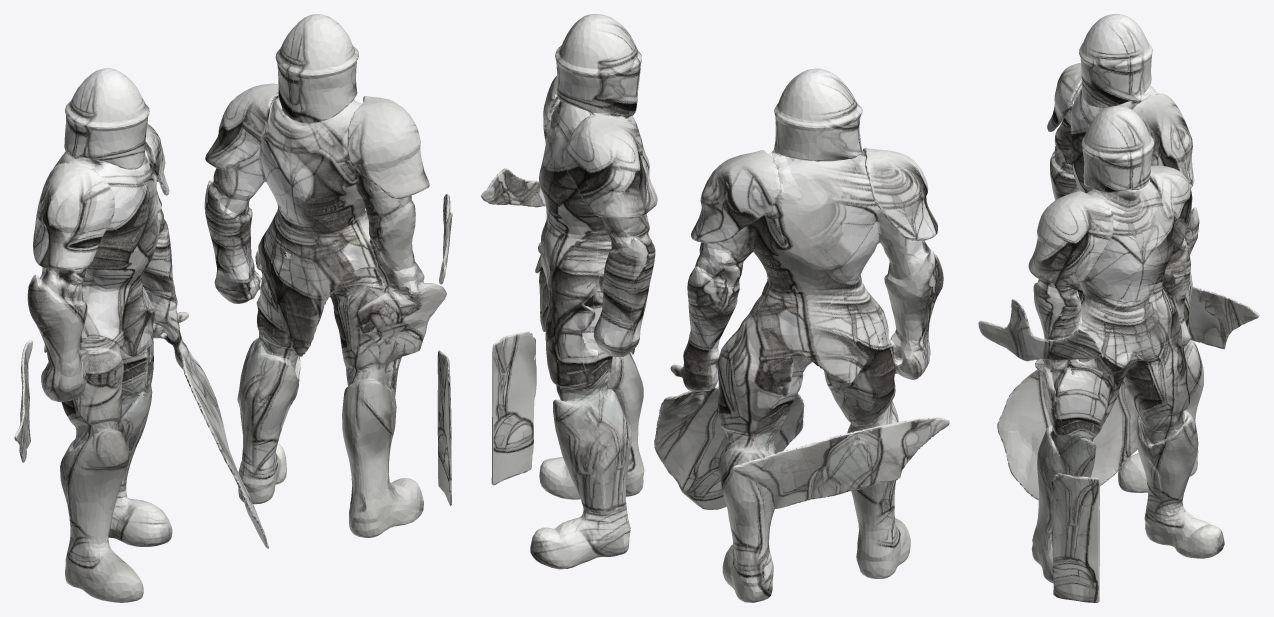
File: armor_stand.glb
3 renders of one model, left to right at view 1: azimuth 30°, elevation 25°; view 2: azimuth 150°, elevation 25°; view 3: azimuth 270°, elevation 25°, orthographic. The views are drawn at different scales.
Parts seen in each view (by area): view 1: armor_stand; view 2: armor_stand; view 3: armor_stand.
Part boxes in pixels (bbox=[...]): armor_stand: bbox=[14, 14, 452, 602]; armor_stand: bbox=[481, 14, 949, 602]; armor_stand: bbox=[978, 14, 1259, 602].
Size of the model in its own units: 1.1 by 1.17 by 0.6632.
1 material, 1 textured.
